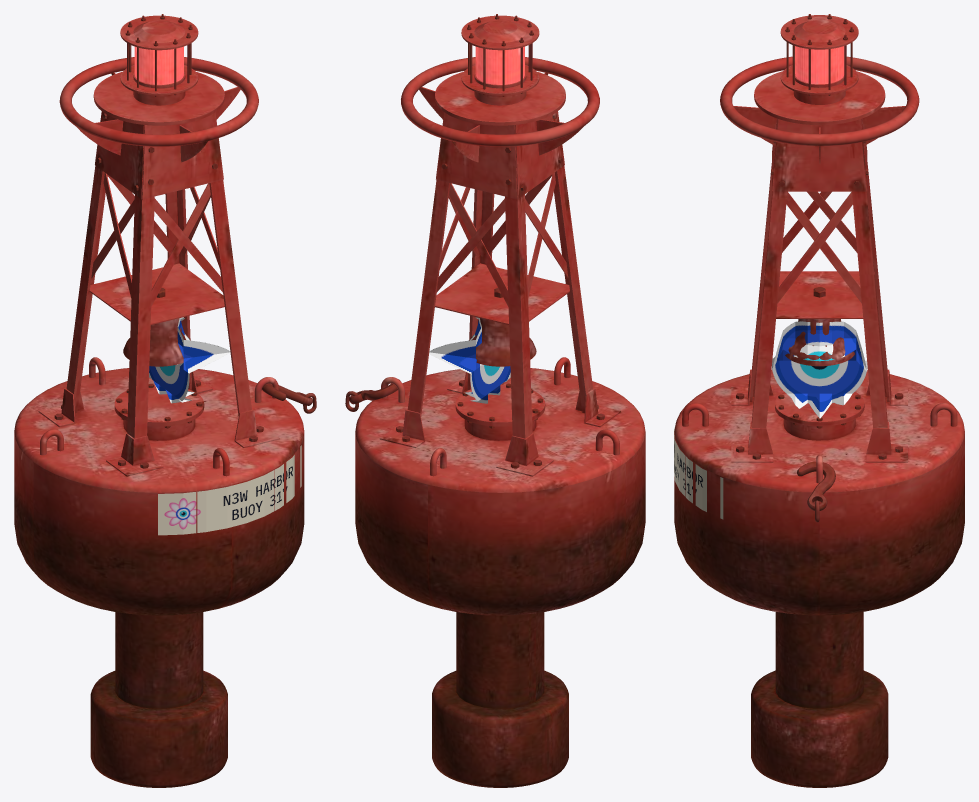
File: nyb_apes_buoy.glb
3 views of the same model, side by side, from view 1: azimuth 30°, elevation 25°; view 2: azimuth 150°, elevation 25°; view 3: azimuth 270°, elevation 25° (orthographic).
Visible parts, largest first — view 1: ocean_buoy, stk_lbl_0761b1ee04.png, stk_nazar_die.png; view 2: ocean_buoy, stk_nazar_die.png; view 3: ocean_buoy, stk_nazar_die.png, stk_lbl_0761b1ee04.png.
Part boxes in pixels (x1=…): ocean_buoy: x1=14, y1=14, x2=316, y2=787; stk_lbl_0761b1ee04.png: x1=158, y1=445, x2=301, y2=535; stk_nazar_die.png: x1=149, y1=317, x2=230, y2=403; ocean_buoy: x1=345, y1=14, x2=645, y2=787; stk_nazar_die.png: x1=429, y1=317, x2=510, y2=403; ocean_buoy: x1=674, y1=14, x2=964, y2=787; stk_nazar_die.png: x1=772, y1=321, x2=867, y2=418; stk_lbl_0761b1ee04.png: x1=674, y1=426, x2=723, y2=519.
Size of the model in its own units: 1.07 by 2.66 by 0.9535.
3 materials, 3 textured.
